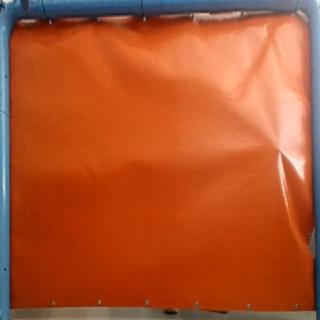Hit-hRxx: (274, 142, 290, 157)
